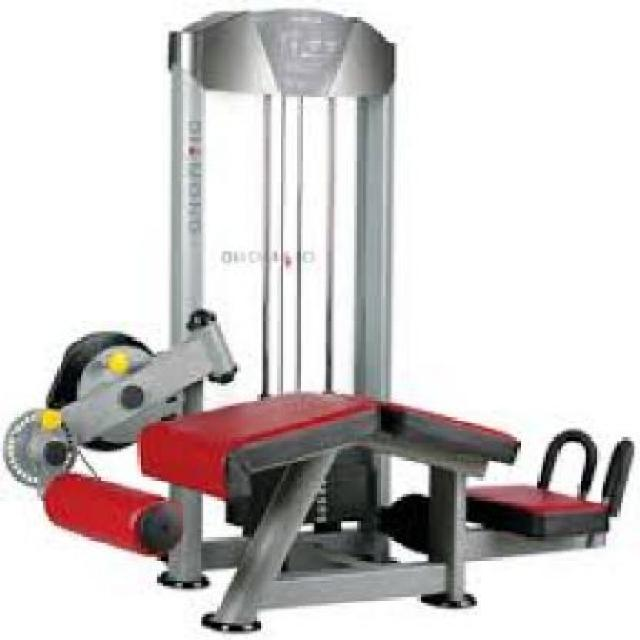reg curl machine: (3, 6, 634, 634)
